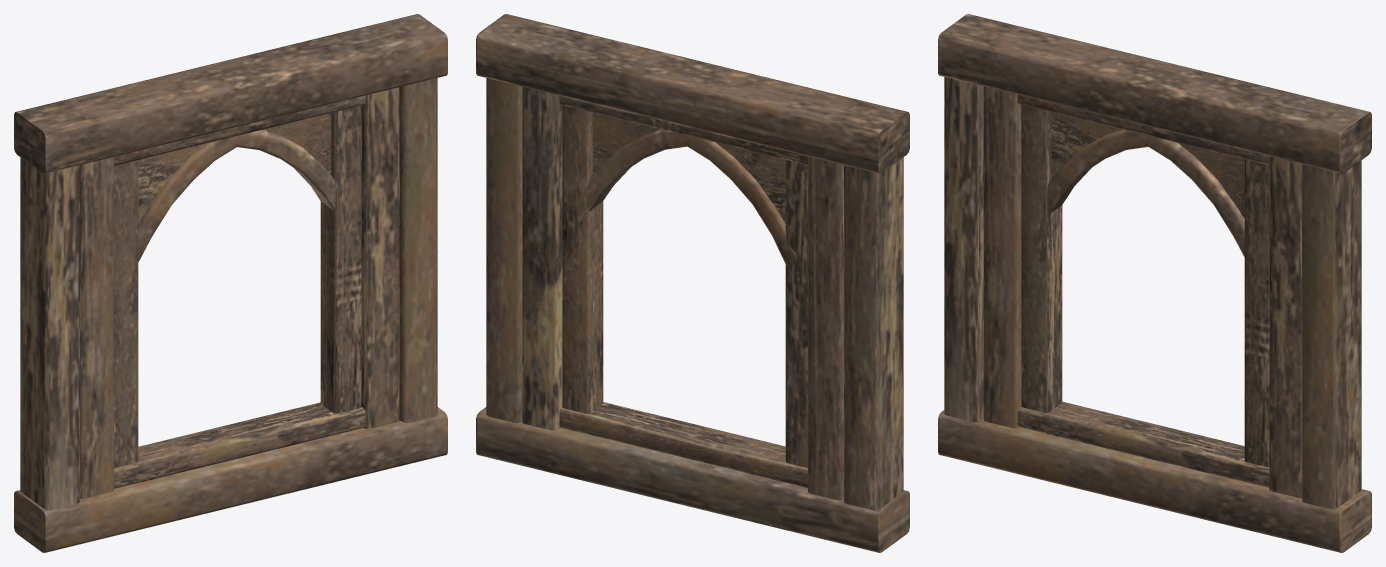
The model's file is HalfTimber_SingleSquare_WindowArchSplit.fbx.
The picture shows the model from 3 angles, left to right: view 1: azimuth 30°, elevation 25°; view 2: azimuth 150°, elevation 25°; view 3: azimuth 330°, elevation 25°; orthographic projection.
Visible parts, largest first — view 1: HalfTimber_SmallSquare_WindowArchSplit_LOD0; view 2: HalfTimber_SmallSquare_WindowArchSplit_LOD0; view 3: HalfTimber_SmallSquare_WindowArchSplit_LOD0.
Part boxes in pixels (x1=…): HalfTimber_SmallSquare_WindowArchSplit_LOD0: x1=14, y1=14, x2=447, y2=552; HalfTimber_SmallSquare_WindowArchSplit_LOD0: x1=476, y1=14, x2=909, y2=552; HalfTimber_SmallSquare_WindowArchSplit_LOD0: x1=938, y1=14, x2=1371, y2=552.
Size of what is drawn, in the model's own units: 60.31 by 60.38 by 8.18.
